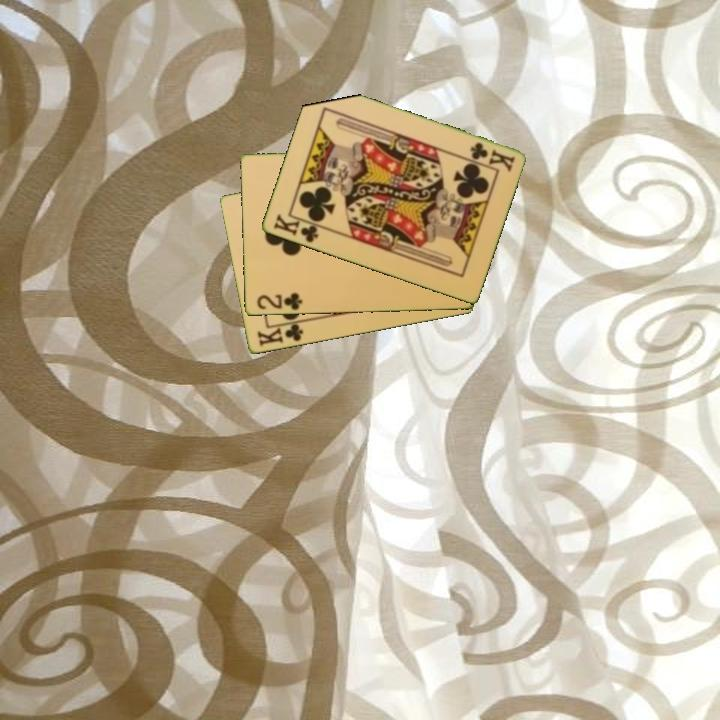2c: (253, 290, 305, 313)
Kc: (270, 210, 326, 246), (466, 139, 517, 174), (253, 318, 306, 350)
